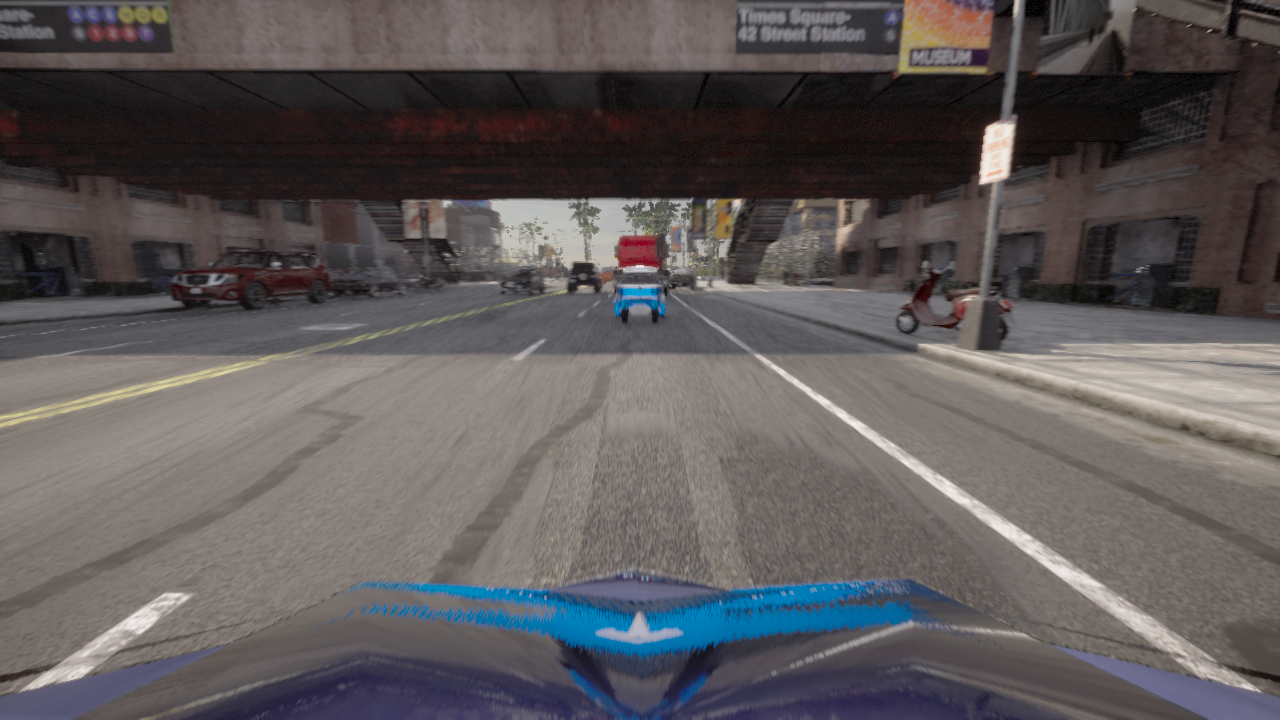cyclist: (0, 569, 1279, 719), (895, 261, 1016, 341), (171, 250, 332, 310), (614, 234, 669, 296), (612, 267, 667, 323), (331, 271, 410, 298), (499, 268, 544, 294), (567, 262, 602, 293), (669, 269, 698, 290), (412, 274, 444, 291), (602, 266, 617, 283), (666, 268, 678, 274), (414, 273, 418, 278), (428, 274, 431, 278)
